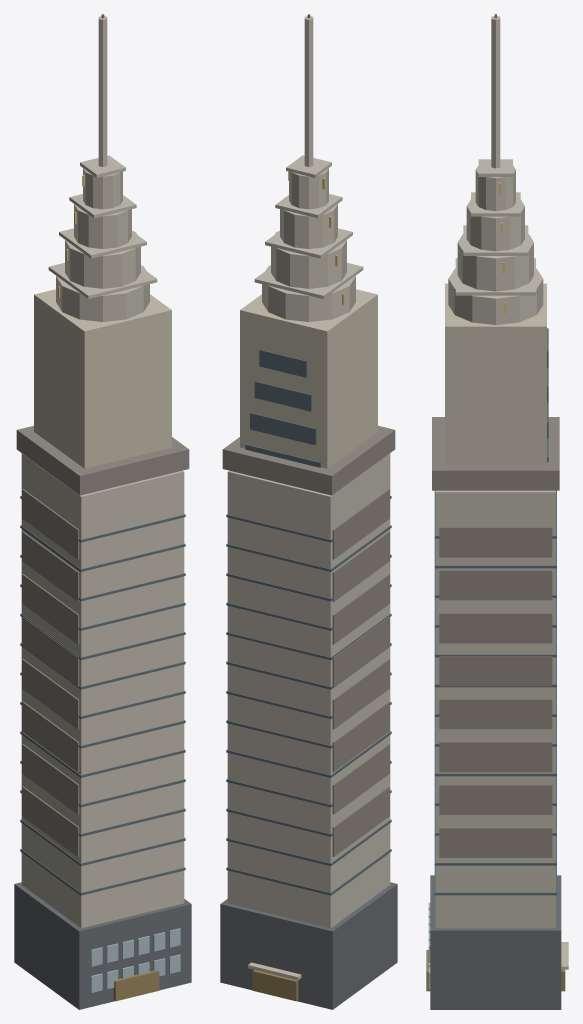
Rendered from chrysler.glb.
The picture shows the model from 3 angles, left to right: view 1: azimuth 30°, elevation 25°; view 2: azimuth 150°, elevation 25°; view 3: azimuth 270°, elevation 25°; orthographic projection.
Parts seen in each view (by area): view 1: Mesh; view 2: Mesh; view 3: Mesh.
Part boxes in pixels (<box>): Mesh: <box>14,14,191,1009</box>; Mesh: <box>220,14,397,1009</box>; Mesh: <box>426,14,568,1009</box>.
Size of the model in its own units: 36 by 293 by 39.1.
